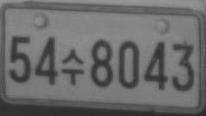0: (117, 40, 141, 89)
3: (172, 42, 195, 92)
4: (143, 41, 169, 91), (34, 35, 59, 85)
5: (8, 35, 31, 83)
8: (90, 39, 114, 88)
수: (60, 47, 85, 86)
